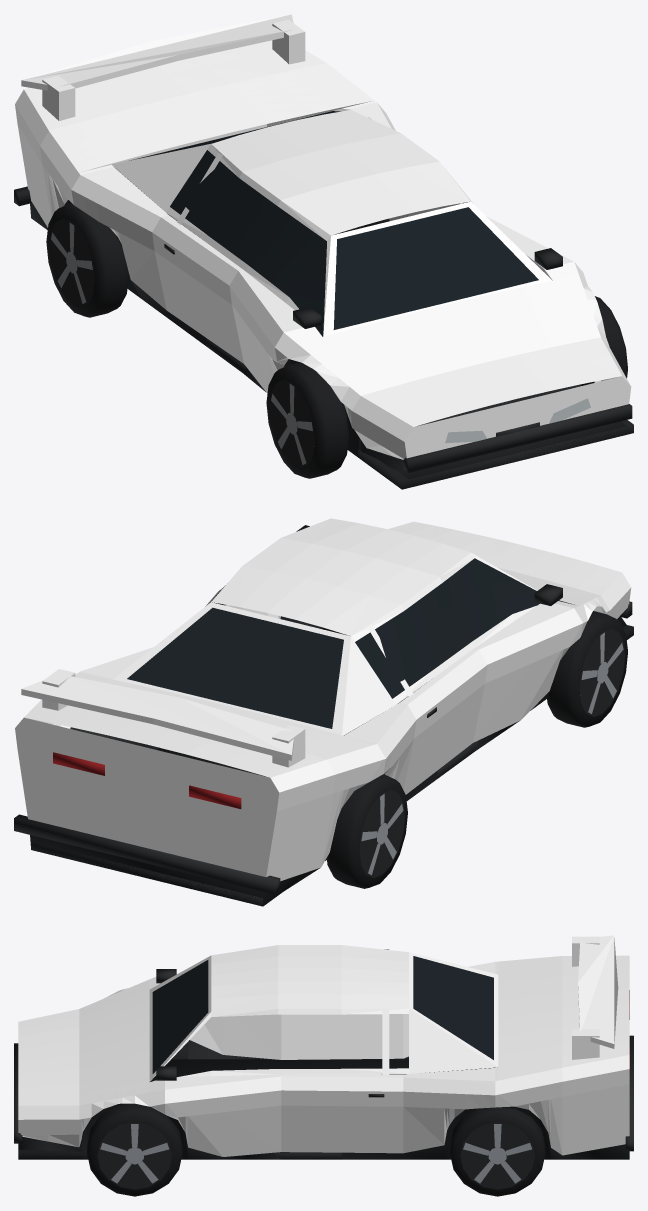
Rendered from castellani_espinho.glb.
3 renders of one model, top to bottom at view 1: azimuth 30°, elevation 25°; view 2: azimuth 150°, elevation 25°; view 3: azimuth 270°, elevation 25°, orthographic. The views are drawn at different scales.
Visible parts, largest first — view 1: Body_Paint, Body_Details, Mount_FrontLeft_Wheel_Details, Mount_RearLeft_Wheel_Details, Mount_FrontRight_Wheel_Details; view 2: Body_Paint, Body_Details, Mount_RearLeft_Wheel_Details, Mount_FrontLeft_Wheel_Details; view 3: Body_Paint, Body_Details, Mount_FrontRight_Wheel_Details, Mount_RearRight_Wheel_Details.
Part boxes in pixels (x1,y1,x2,y2): Body_Paint: (15, 14, 631, 459); Body_Details: (14, 111, 633, 489); Mount_FrontLeft_Wheel_Details: (266, 362, 348, 478); Mount_RearLeft_Wheel_Details: (46, 203, 128, 317); Mount_FrontRight_Wheel_Details: (595, 296, 627, 378); Body_Paint: (15, 518, 631, 881); Body_Details: (14, 525, 633, 906); Mount_RearLeft_Wheel_Details: (326, 774, 407, 888); Mount_FrontLeft_Wheel_Details: (546, 611, 627, 727); Body_Paint: (18, 935, 629, 1156); Body_Details: (14, 956, 633, 1159); Mount_FrontRight_Wheel_Details: (87, 1103, 182, 1196); Mount_RearRight_Wheel_Details: (450, 1107, 545, 1196).
Size of the model in its own units: 1.94 by 1.16 by 4.01.
Materials: 2 (1 with a texture image).
